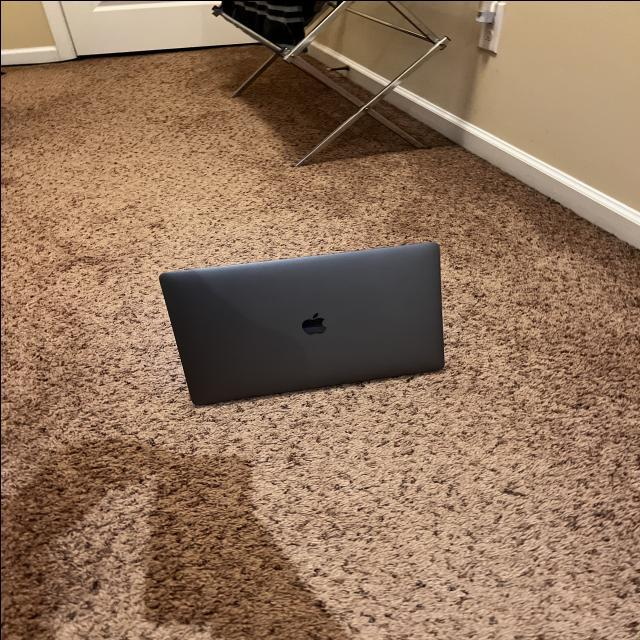laptop: (158, 239, 445, 406)
